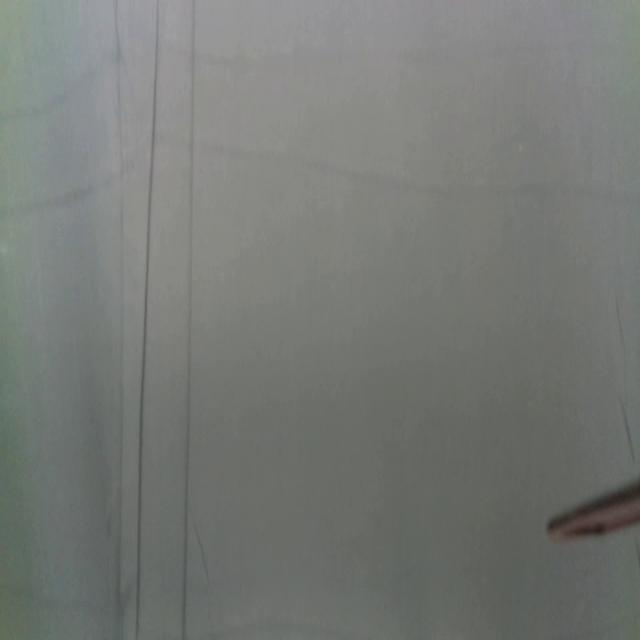color bleeding: (0, 130, 640, 228), (0, 32, 640, 128)
crease: (135, 1, 161, 640), (181, 0, 197, 640), (112, 1, 126, 640)
